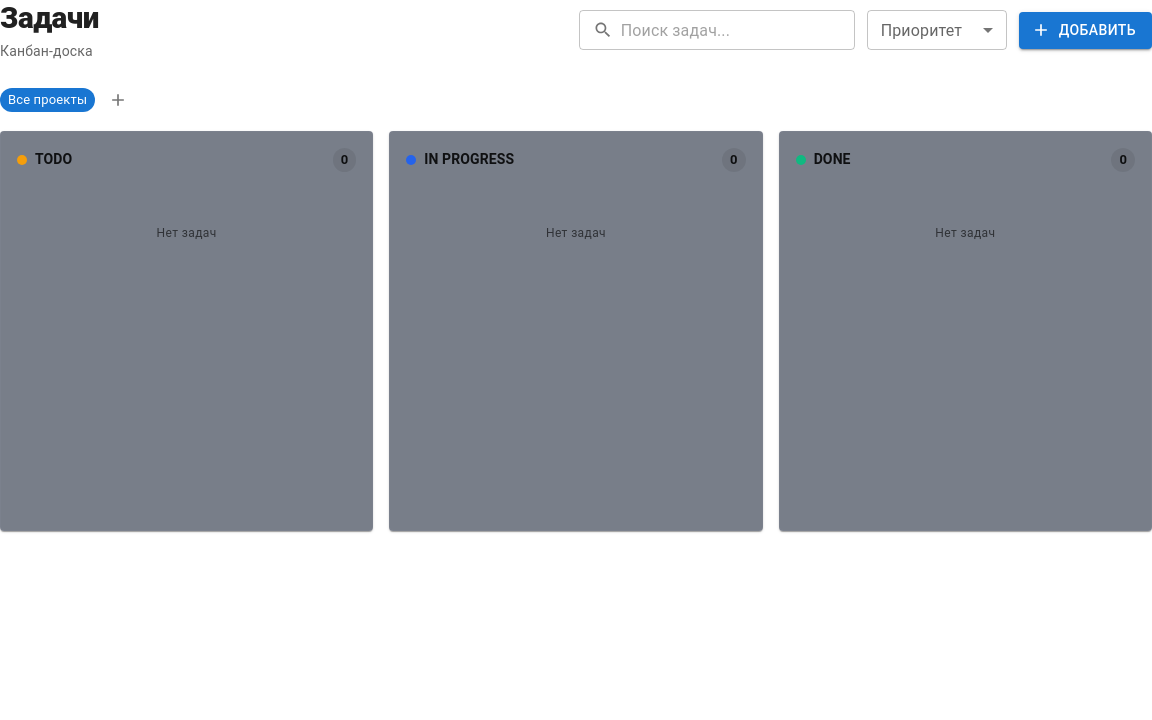
Tasks page buttons › renders Добавить button and opens dialog
Click the button "Добавить": (1085, 30) 1019,12 -> 1151,48
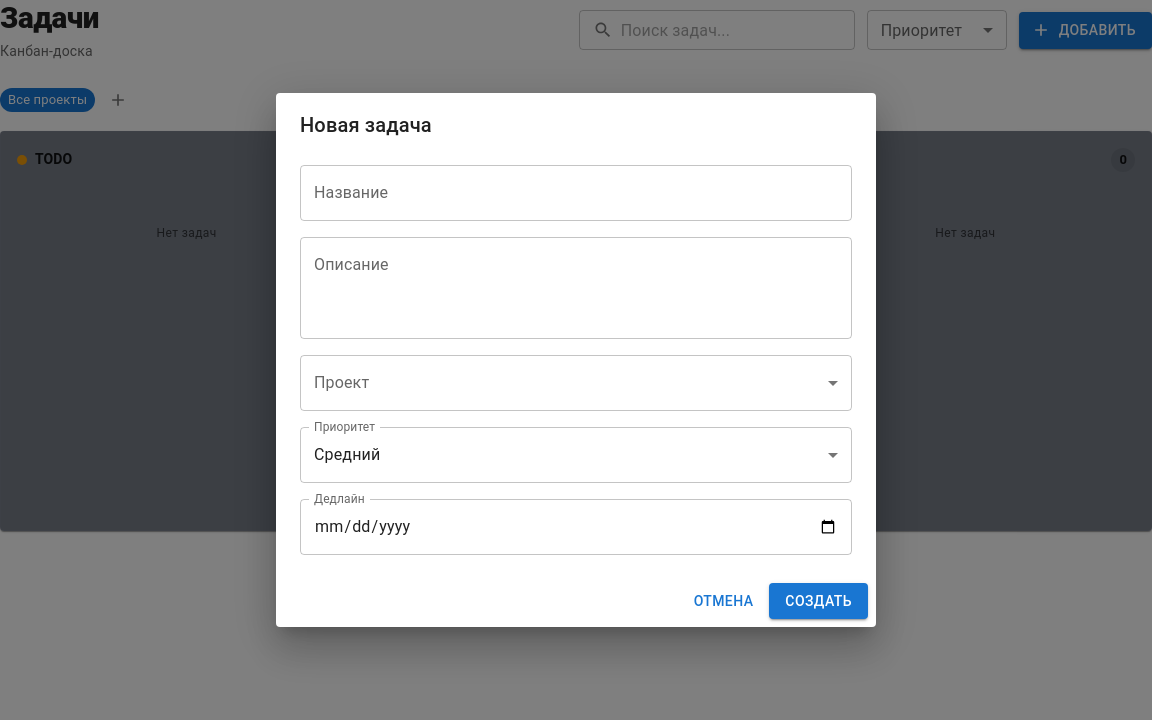
expect the button "Отмена" is shown: met, box 686,583 -> 761,619
